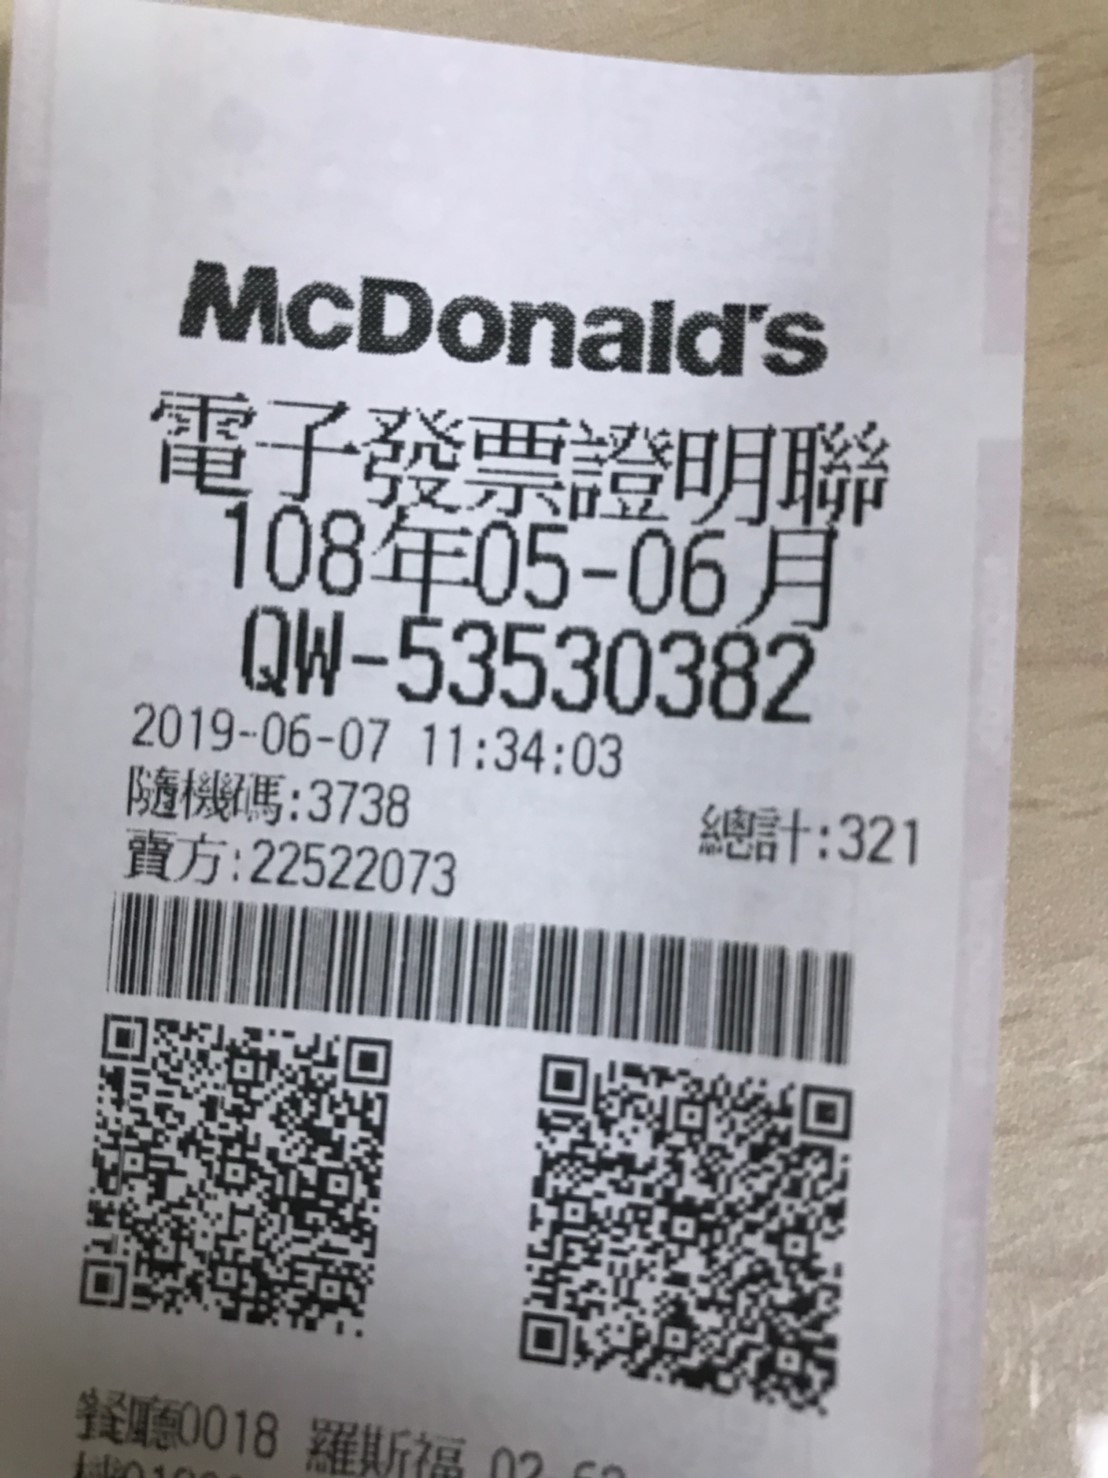Date_New: (219, 498, 841, 632)
Number_New: (399, 614, 818, 730)
